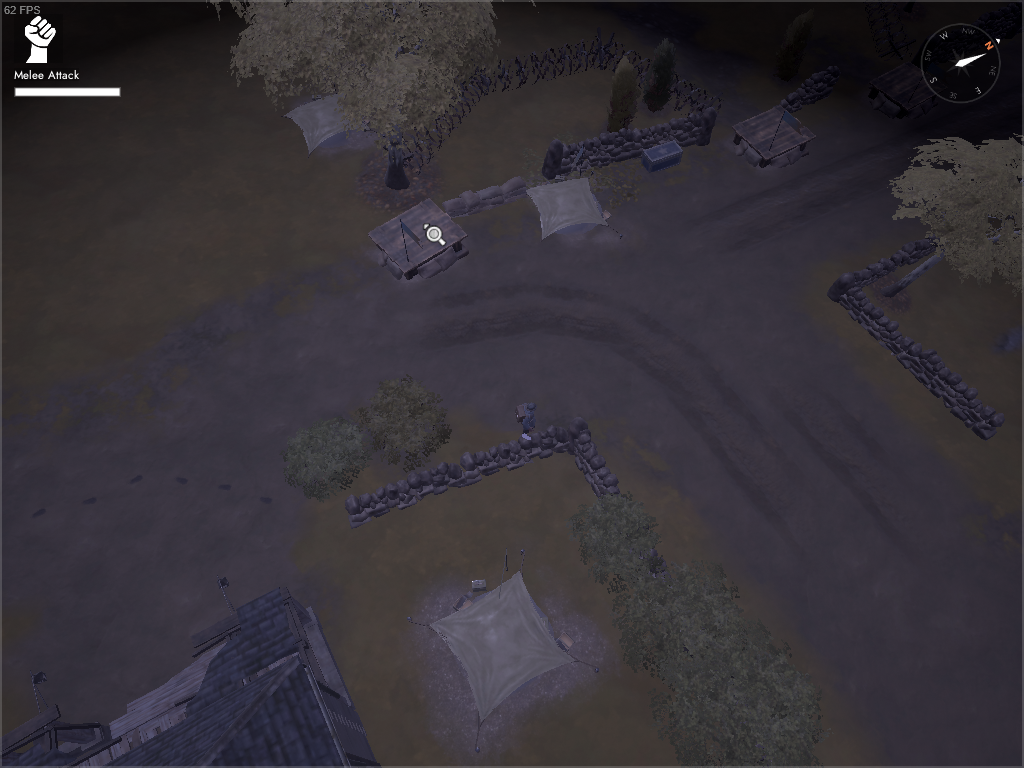foxhole: (399, 546, 603, 756), (514, 164, 626, 252), (277, 84, 380, 157)
pillbox: (368, 195, 470, 287), (729, 103, 816, 174), (860, 57, 945, 123)
player: (515, 399, 538, 441)
storage_box: (638, 138, 684, 172)
wire: (578, 27, 725, 123), (390, 56, 495, 175), (483, 30, 614, 98)
